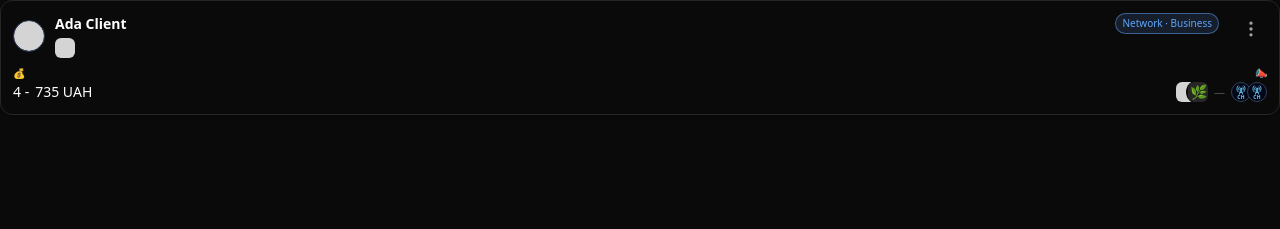
CrmContactCard › opens purchased channels in the same compact popover pattern as deal members
Click the heading named "View 2 purchased channels": (1249, 92) [1231,82,1267,102]
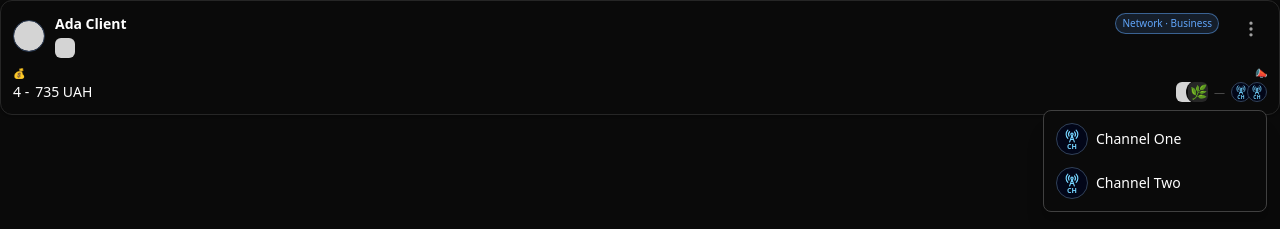
Check: the text "Channel One" is shown, box [1096,129,1181,149]
Check: the text "Channel Two" is shown, box [1096,173,1181,193]
